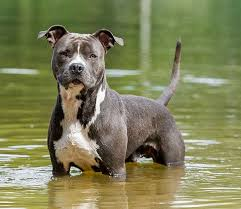Perro Pitbull: (34, 18, 132, 170)
